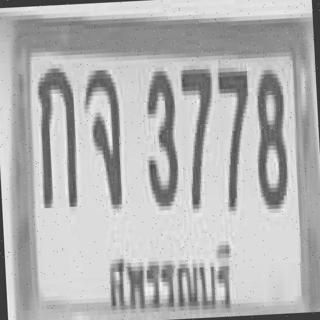A01: (35, 64, 77, 204)
A08: (82, 65, 122, 206)
N03: (142, 67, 178, 203)
N07: (179, 64, 217, 205), (216, 67, 252, 207)
N08: (251, 65, 287, 206)
P66: (102, 230, 236, 320)
